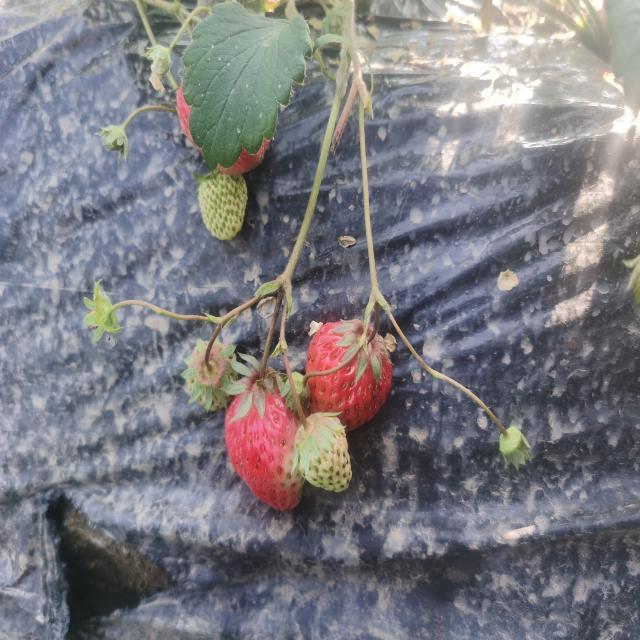stem: (257, 312, 279, 385), (368, 306, 380, 345)
strawberry: (225, 376, 304, 509), (309, 327, 392, 431), (305, 320, 363, 372)
